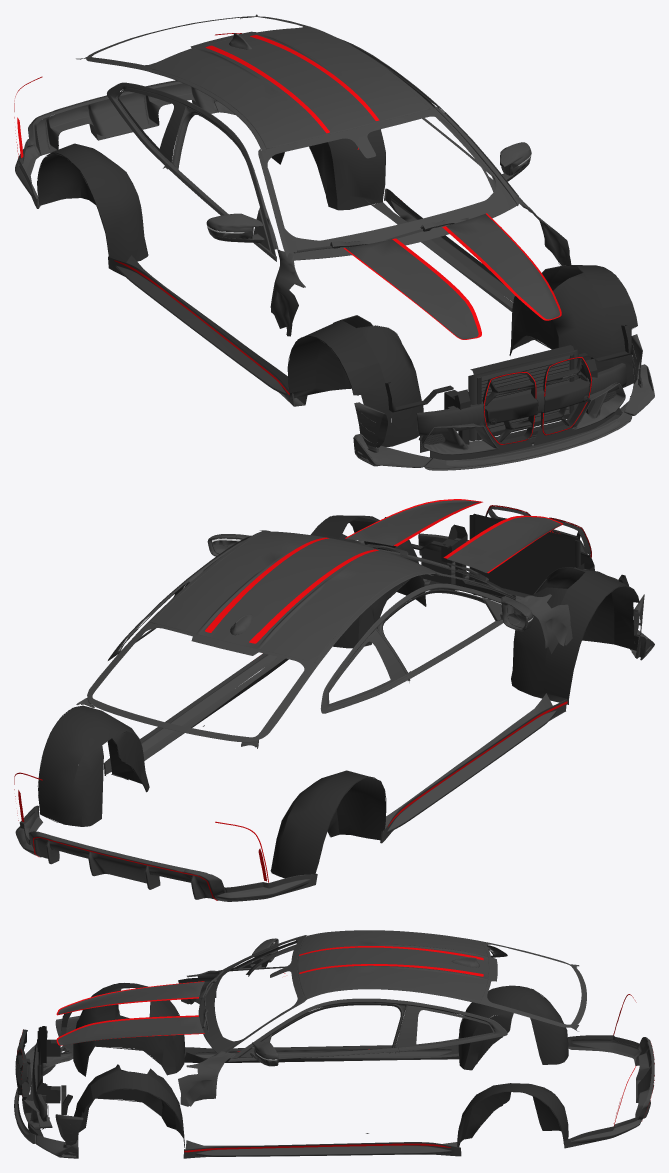
The model's file is frame.glb.
3 views of the same model, one above another, from view 1: azimuth 30°, elevation 25°; view 2: azimuth 150°, elevation 25°; view 3: azimuth 270°, elevation 25° (orthographic). The views are drawn at different scales.
Visible parts, largest first — view 1: frame; view 2: frame; view 3: frame.
Boxes of the visible parts, x1,y1,x2,y2 form: frame: (14, 14, 654, 470); frame: (14, 499, 654, 901); frame: (14, 930, 654, 1158).
Bounding box in the file's own units: 1.97 × 1.2 × 4.54.
1 material, 1 textured.
